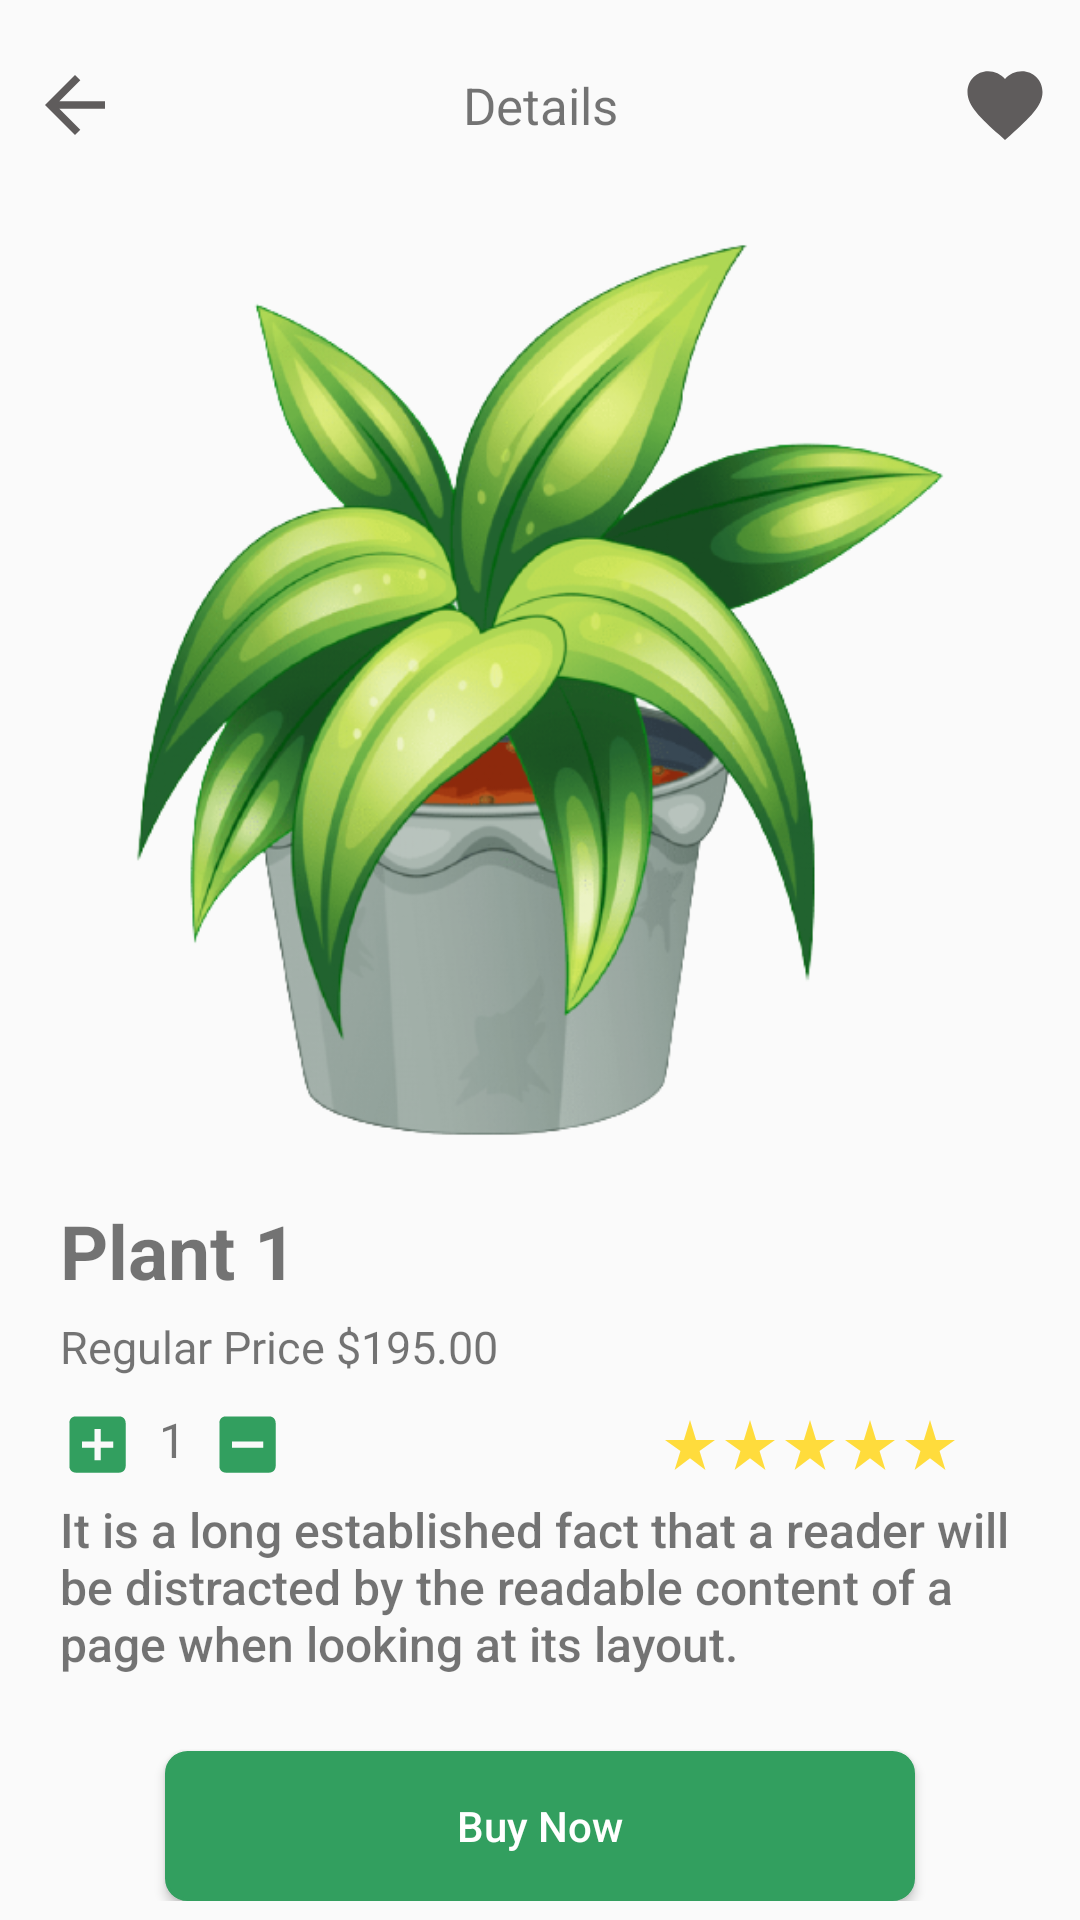

Named icons in this screenshot (1080x1920) and their bounding boxes, (x1, y1, x2, y2):
add box: (69, 1416, 126, 1473)
arrow back: (45, 75, 105, 135)
favorite: (967, 71, 1043, 140)
indeterminate check box: (219, 1416, 276, 1473)
star rate: (665, 1420, 715, 1470), (725, 1420, 775, 1470), (785, 1420, 835, 1470), (845, 1420, 895, 1470), (905, 1420, 955, 1470)
